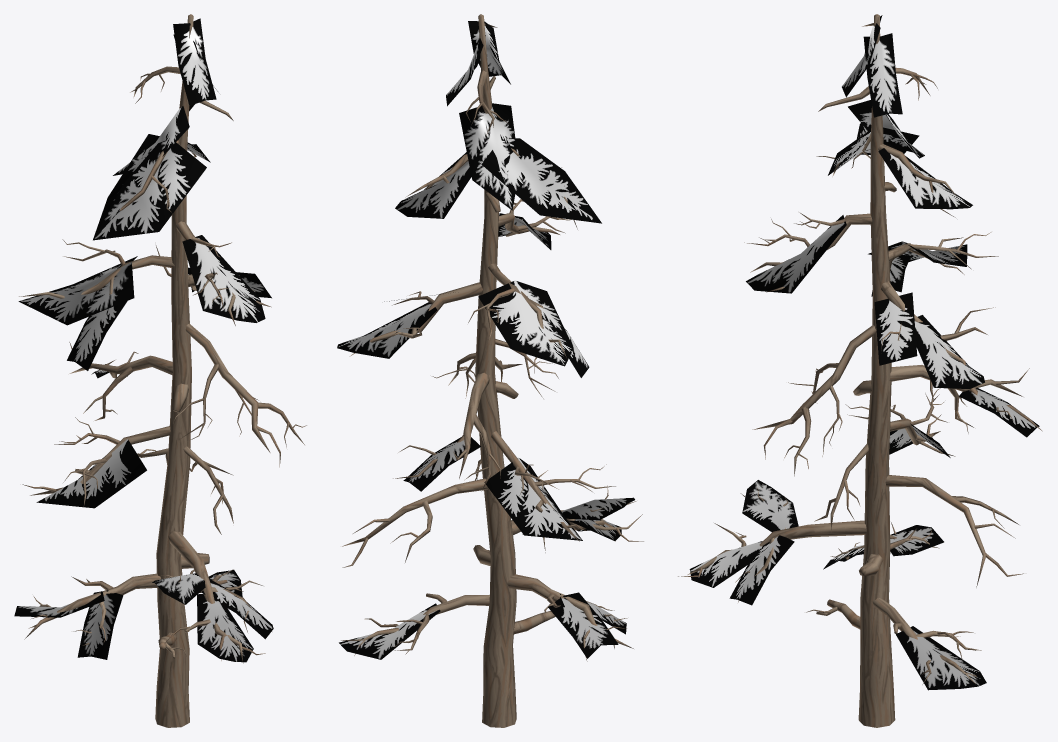
File: P_PineDead03_Snowy.obj
3 renders of one model, left to right at view 1: azimuth 30°, elevation 25°; view 2: azimuth 150°, elevation 25°; view 3: azimuth 270°, elevation 25°, orthographic.
Size of the model in its own units: 7.34 by 19.11 by 8.87.
